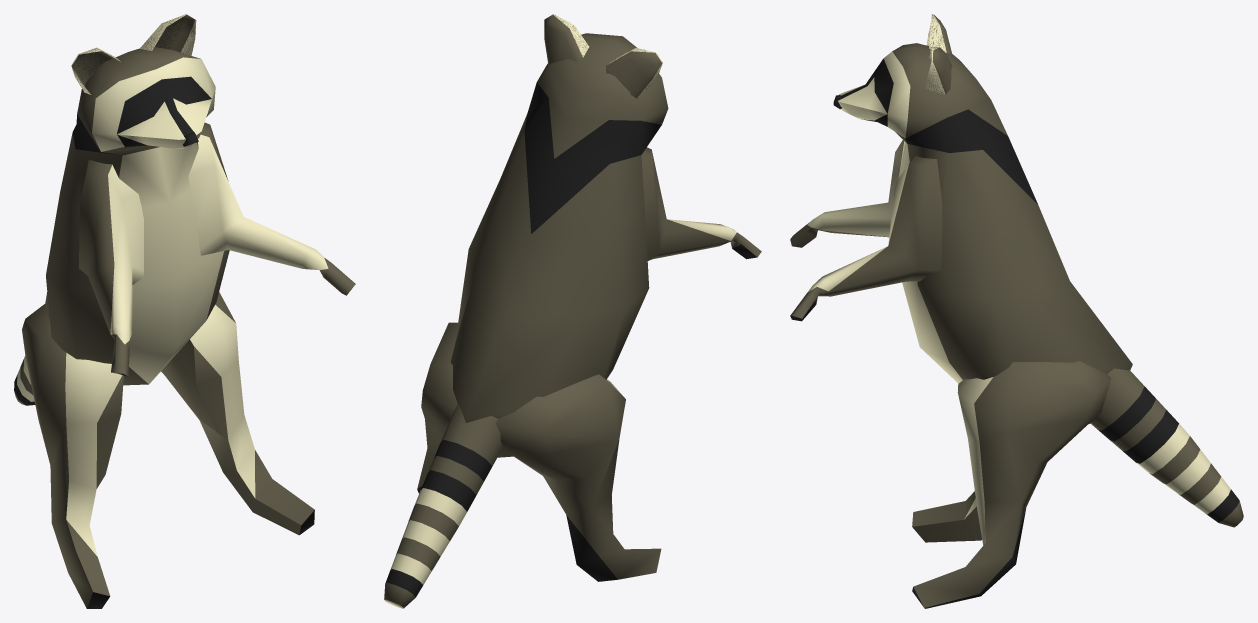
File: raccoon export.fbx
3 views of the same model, side by side, from view 1: azimuth 30°, elevation 25°; view 2: azimuth 150°, elevation 25°; view 3: azimuth 270°, elevation 25° (orthographic). The views are drawn at different scales.
Visible parts, largest first — view 1: Plane.002; view 2: Plane.002; view 3: Plane.002.
Part boxes in pixels (x1,y1,x2,y2): Plane.002: (14, 14, 355, 608); Plane.002: (384, 14, 761, 608); Plane.002: (790, 14, 1243, 608).
Bounding box in the file's own units: 40.39 × 81.89 × 63.22.
